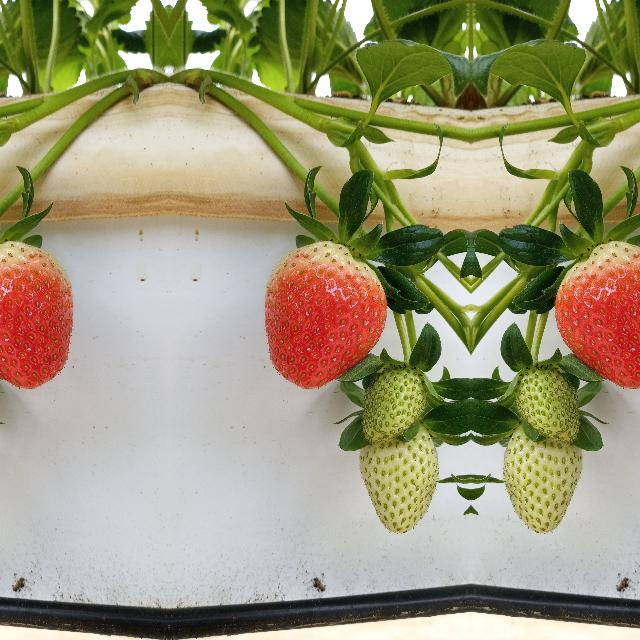Health_100: (262, 238, 388, 389), (553, 238, 640, 389), (0, 238, 73, 389)
Health_25: (352, 430, 452, 538), (489, 430, 588, 538), (371, 352, 423, 438), (518, 352, 570, 438)
